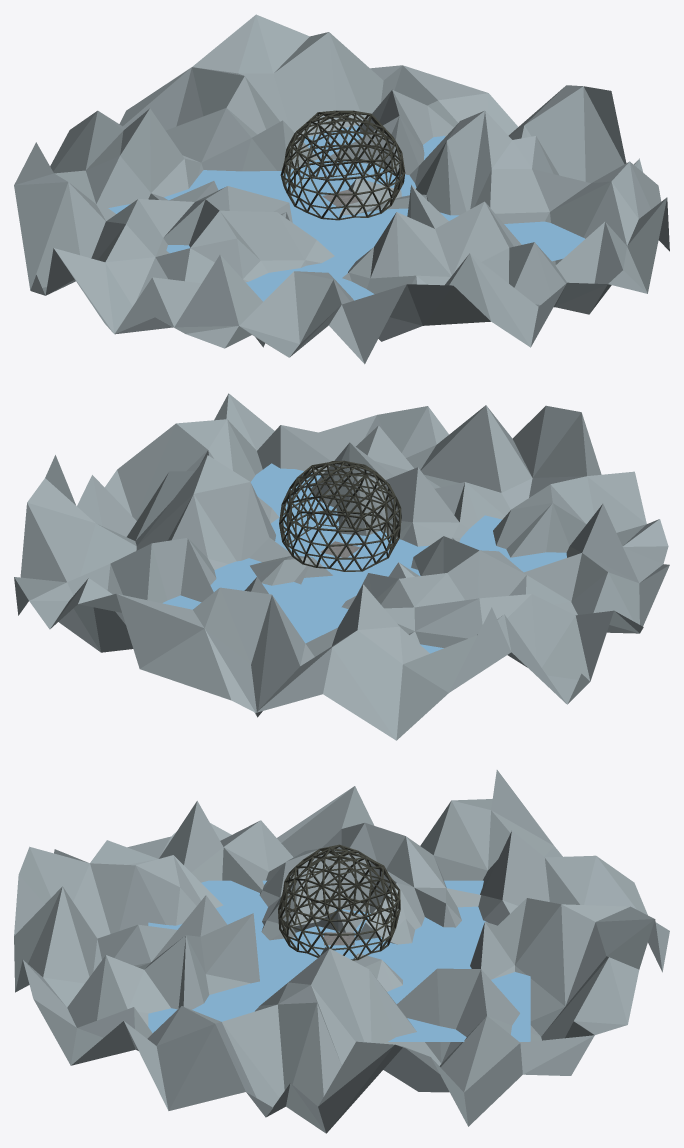
File: world.glb
The picture shows the model from 3 angles, top to bottom: view 1: azimuth 30°, elevation 25°; view 2: azimuth 150°, elevation 25°; view 3: azimuth 270°, elevation 25°; orthographic projection.
Visible parts, largest first — view 1: Plane, Plane.001, Icosphere; view 2: Plane, Plane.001, Icosphere; view 3: Plane, Plane.001, Icosphere.
Part boxes in pixels (bbox=[...]): Plane: bbox=[14, 14, 669, 364]; Plane.001: bbox=[108, 124, 584, 301]; Icosphere: bbox=[280, 110, 405, 220]; Plane: bbox=[14, 393, 669, 740]; Plane.001: bbox=[162, 463, 566, 653]; Icosphere: bbox=[279, 460, 401, 571]; Plane: bbox=[14, 770, 669, 1133]; Plane.001: bbox=[148, 880, 530, 1041]; Icosphere: bbox=[278, 844, 400, 960].
Size of the model in its own units: 1369 by 387 by 1372.
